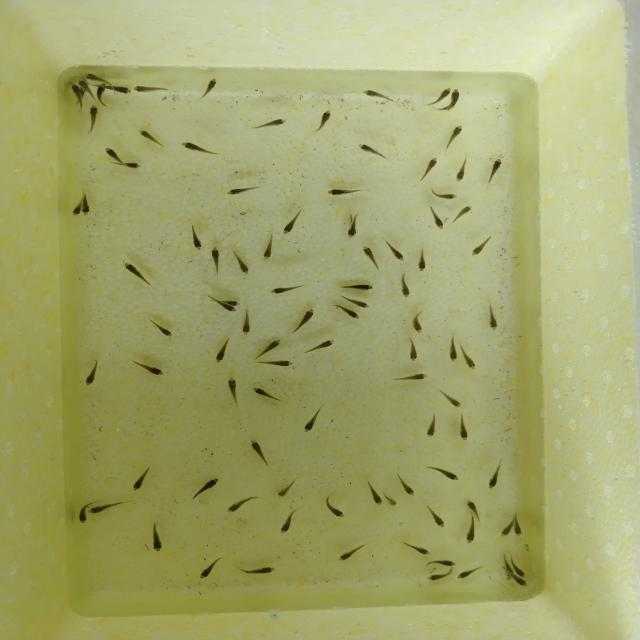fingerling: (189, 474, 223, 501), (176, 139, 222, 158), (80, 358, 110, 386), (289, 306, 321, 332), (248, 434, 272, 468), (282, 204, 308, 235), (250, 115, 292, 134), (354, 140, 390, 162), (358, 87, 400, 105), (234, 561, 281, 577), (122, 258, 147, 288), (427, 462, 460, 484), (196, 555, 225, 580), (224, 496, 264, 514), (130, 462, 154, 492), (309, 107, 335, 134), (359, 244, 384, 272), (229, 250, 254, 278), (300, 338, 341, 355), (211, 337, 235, 366), (483, 154, 505, 185), (252, 384, 286, 404), (324, 494, 349, 521), (442, 122, 463, 154), (416, 154, 439, 183), (147, 520, 167, 553), (299, 409, 324, 435), (425, 203, 448, 231), (458, 517, 481, 545), (335, 542, 367, 562), (388, 368, 430, 383), (132, 358, 167, 376), (196, 76, 222, 100), (278, 508, 302, 534), (254, 355, 295, 370), (224, 183, 260, 200), (88, 499, 126, 515), (222, 376, 242, 406), (149, 317, 174, 341), (188, 222, 208, 252), (470, 234, 494, 258), (423, 506, 447, 530), (484, 464, 506, 490), (259, 232, 278, 262), (208, 244, 226, 275), (413, 245, 432, 274), (451, 204, 477, 225), (437, 388, 463, 409), (136, 128, 163, 148), (263, 282, 308, 294), (325, 184, 363, 198), (239, 307, 256, 338), (258, 337, 286, 355), (133, 84, 170, 97), (386, 239, 406, 263), (407, 310, 427, 334), (402, 338, 422, 362), (426, 188, 460, 202), (396, 273, 414, 299), (338, 280, 374, 293), (87, 103, 102, 134), (458, 564, 487, 580), (366, 480, 383, 507), (452, 158, 470, 183), (483, 304, 499, 332), (443, 334, 459, 362), (396, 476, 416, 497), (425, 568, 455, 582), (275, 482, 299, 499), (402, 543, 433, 556), (424, 414, 440, 439), (94, 82, 109, 108), (346, 295, 375, 308), (333, 307, 361, 320), (457, 416, 471, 442), (347, 214, 361, 239), (461, 348, 476, 371), (104, 147, 123, 163), (428, 558, 458, 568), (74, 506, 90, 524), (464, 498, 481, 514), (451, 88, 462, 110), (384, 493, 399, 508), (435, 85, 452, 97), (114, 85, 132, 96), (124, 160, 142, 171), (497, 524, 512, 537), (222, 303, 238, 314), (514, 578, 530, 589), (80, 72, 98, 80), (512, 524, 524, 536), (80, 203, 90, 217), (515, 566, 527, 577), (72, 205, 80, 218), (69, 84, 79, 92), (77, 79, 88, 86)
